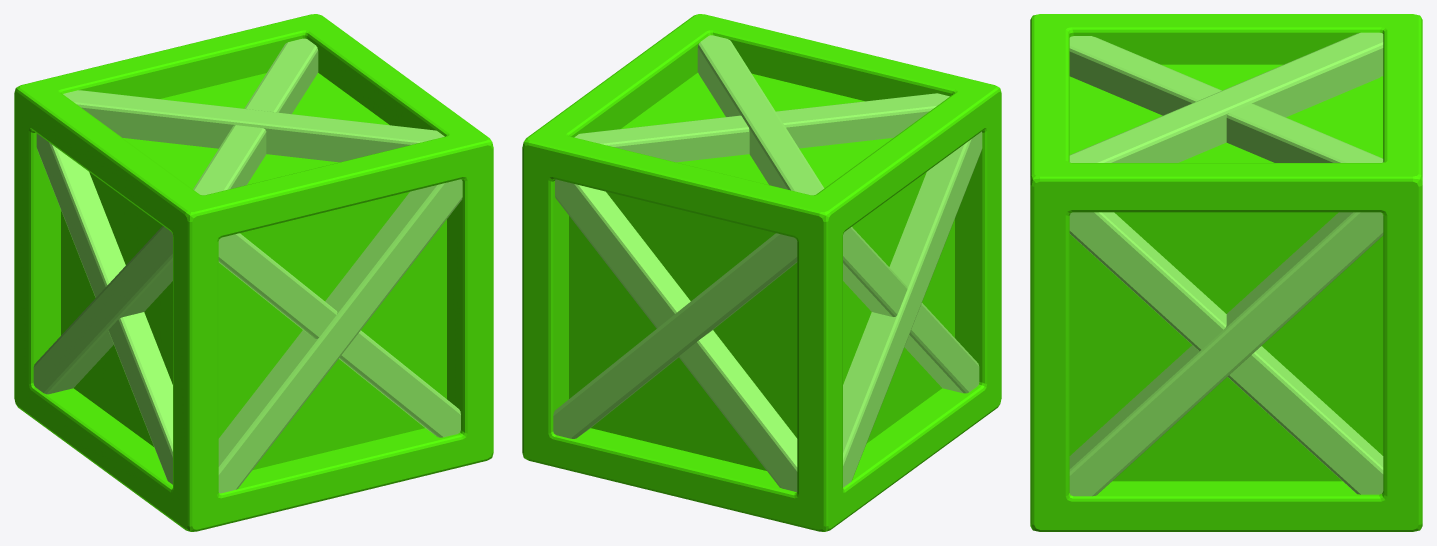
File: Crate_RAM.fbx
3 renders of one model, left to right at view 1: azimuth 30°, elevation 25°; view 2: azimuth 150°, elevation 25°; view 3: azimuth 270°, elevation 25°, orthographic. The views are drawn at different scales.
Visible parts, largest first — view 1: Crate RAM; view 2: Crate RAM; view 3: Crate RAM.
Part boxes in pixels (bbox=[...]): Crate RAM: bbox=[14, 14, 493, 531]; Crate RAM: bbox=[522, 14, 1001, 531]; Crate RAM: bbox=[1030, 14, 1422, 531].
Bounding box in the file's own units: 100 × 100 × 100.
